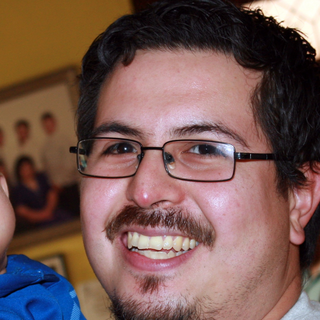eye: (180, 139, 229, 165), (99, 140, 140, 160)
